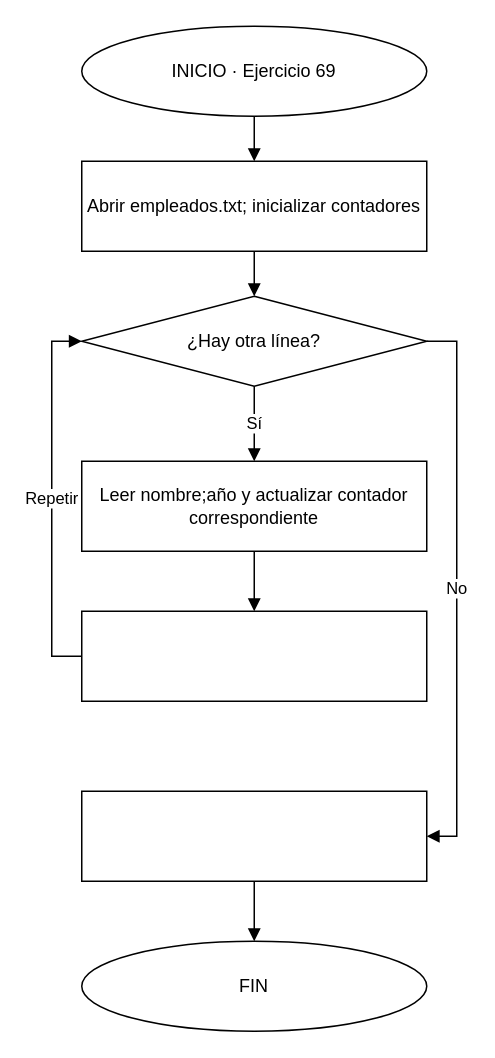
Image size: 495x1058. Some labels were removed from this diagram. The shapes that lost their labels are listed below. From the top down, each one's centre as x and y in pixels, then its label:
the point at 253,655: Leer siguiente línea
the point at 253,835: Mostrar resultado final / terminar el proceso
